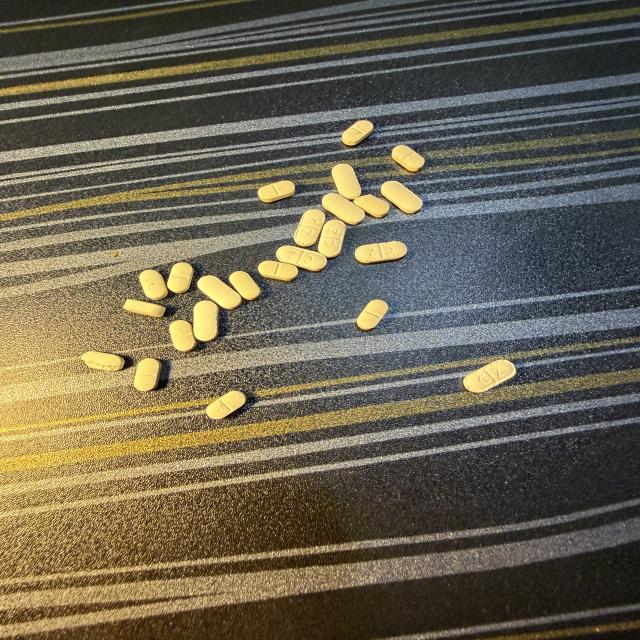pill: (464, 360, 516, 393), (198, 276, 241, 309), (381, 181, 422, 213), (322, 194, 364, 224), (277, 246, 326, 271), (355, 241, 407, 263), (294, 210, 325, 246), (207, 391, 246, 419), (332, 163, 361, 200), (318, 220, 345, 258), (194, 301, 219, 341), (356, 300, 389, 330), (134, 358, 162, 391), (229, 271, 260, 300), (139, 270, 168, 300), (81, 351, 124, 371), (392, 145, 424, 171), (170, 320, 196, 351), (258, 261, 298, 281), (167, 263, 193, 293), (258, 181, 295, 202), (354, 195, 389, 217), (342, 121, 373, 145), (124, 300, 165, 317)
